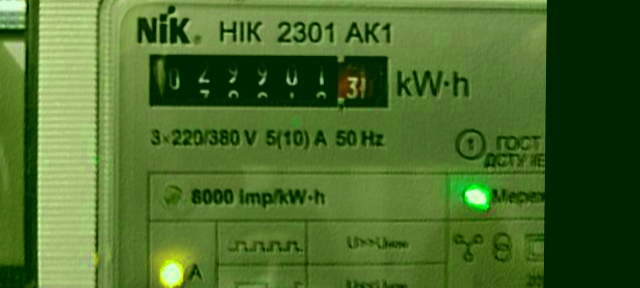0: (164, 64, 182, 92), (283, 60, 299, 89)
1: (314, 59, 327, 87)
2: (194, 59, 212, 86)
3: (343, 74, 360, 101)
9: (224, 59, 240, 86), (255, 60, 268, 88)
screen: (138, 44, 399, 119)
